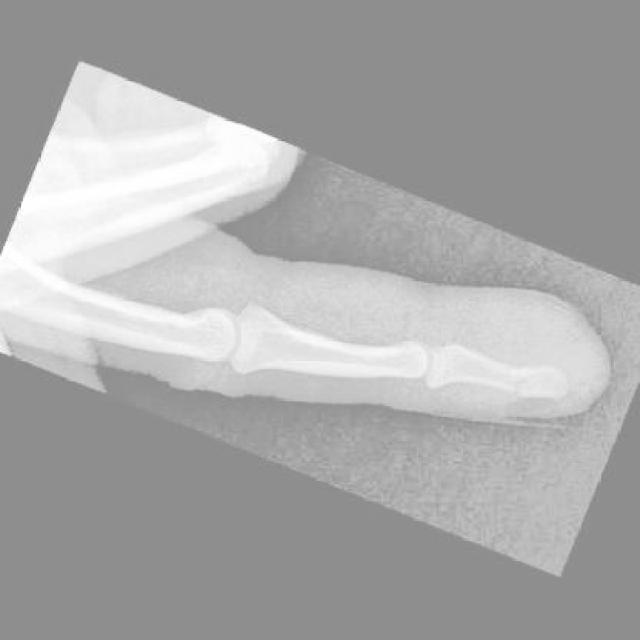Fracture: (495, 360, 551, 411)
